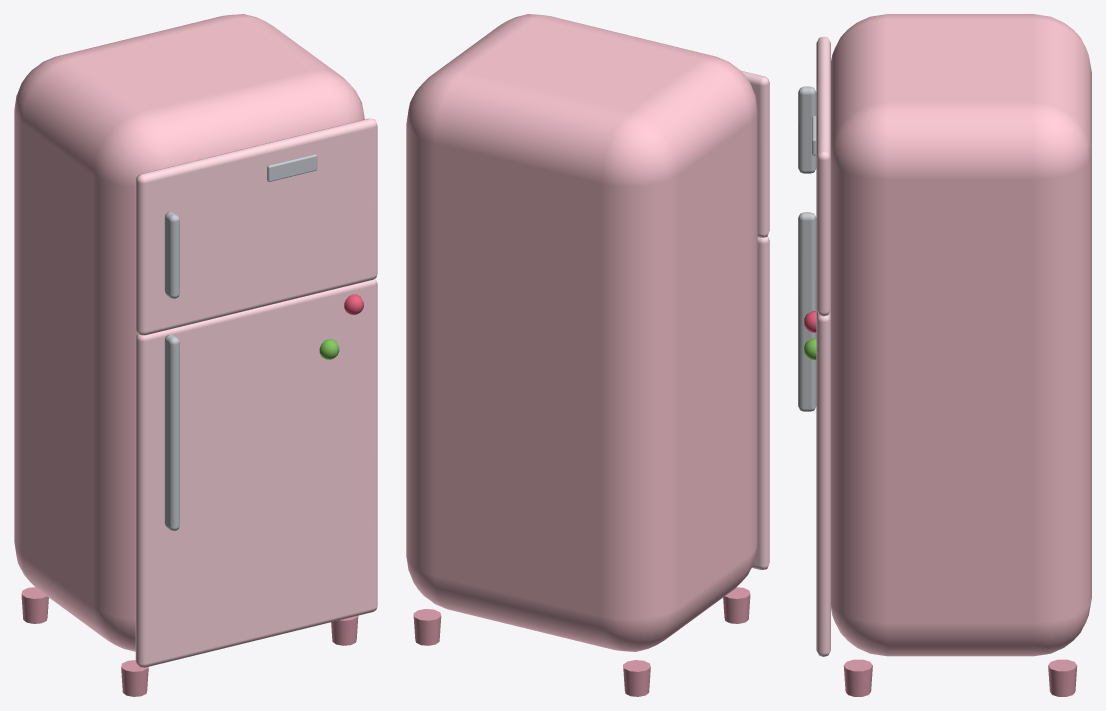
Rendered from fridge-retro.glb.
3 renders of one model, left to right at view 1: azimuth 30°, elevation 25°; view 2: azimuth 150°, elevation 25°; view 3: azimuth 270°, elevation 25°, orthographic. The views are drawn at different scales.
Size of the model in its own units: 0.86 by 1.75 by 0.805.
